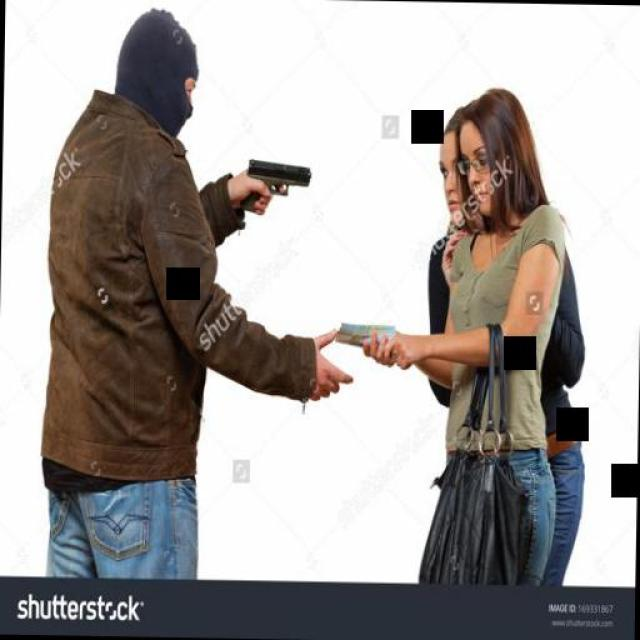gun: (237, 158, 315, 214)
